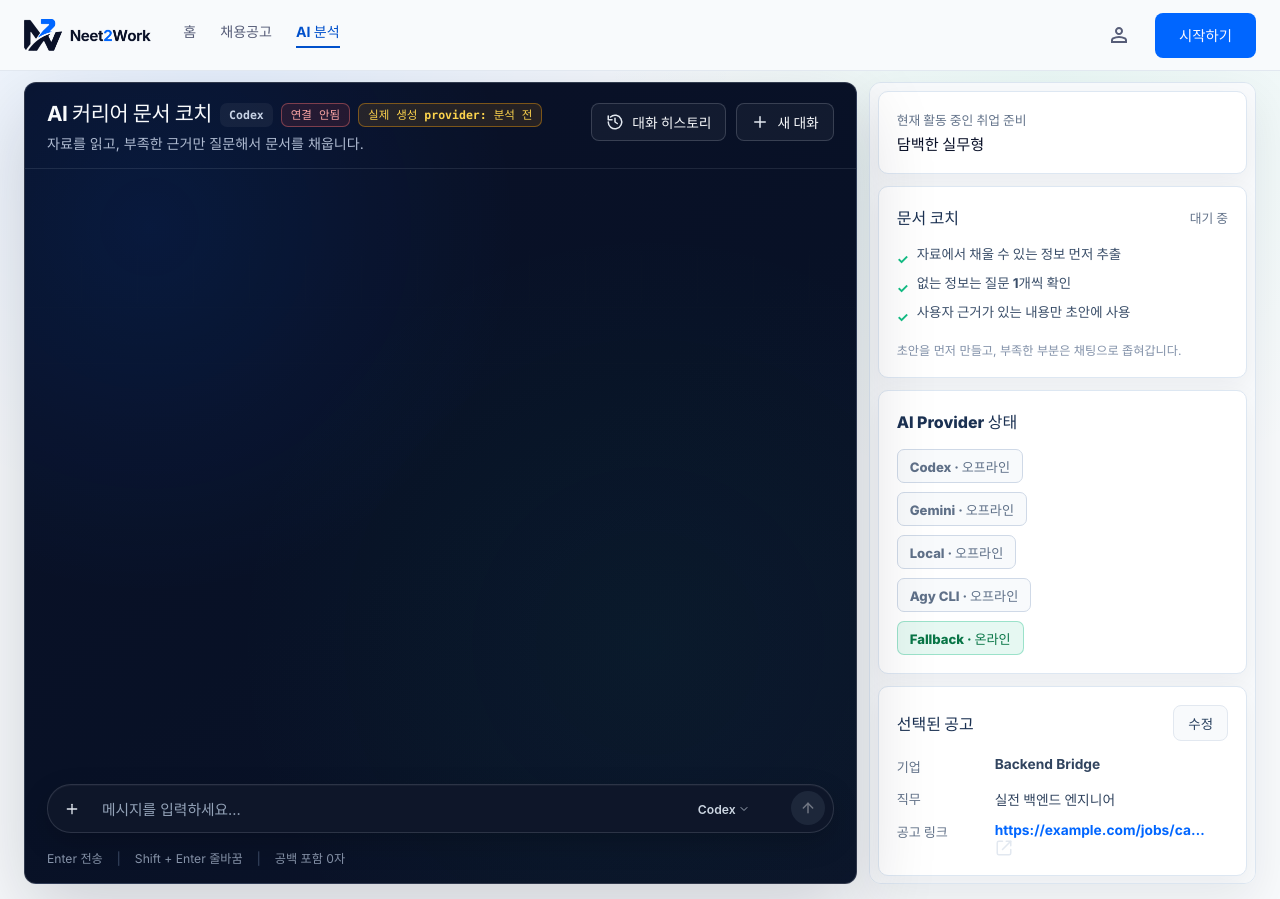
it: AIDraftChatBuilder draft workflow flow › saves GitHub-derived skill suggestions back to the selected empty profile
Expected: the text "Backend Bridge" is shown, [995,758,1100,774]
Click the button named "작성 옵션" at (72, 809), box [56,793,88,825]
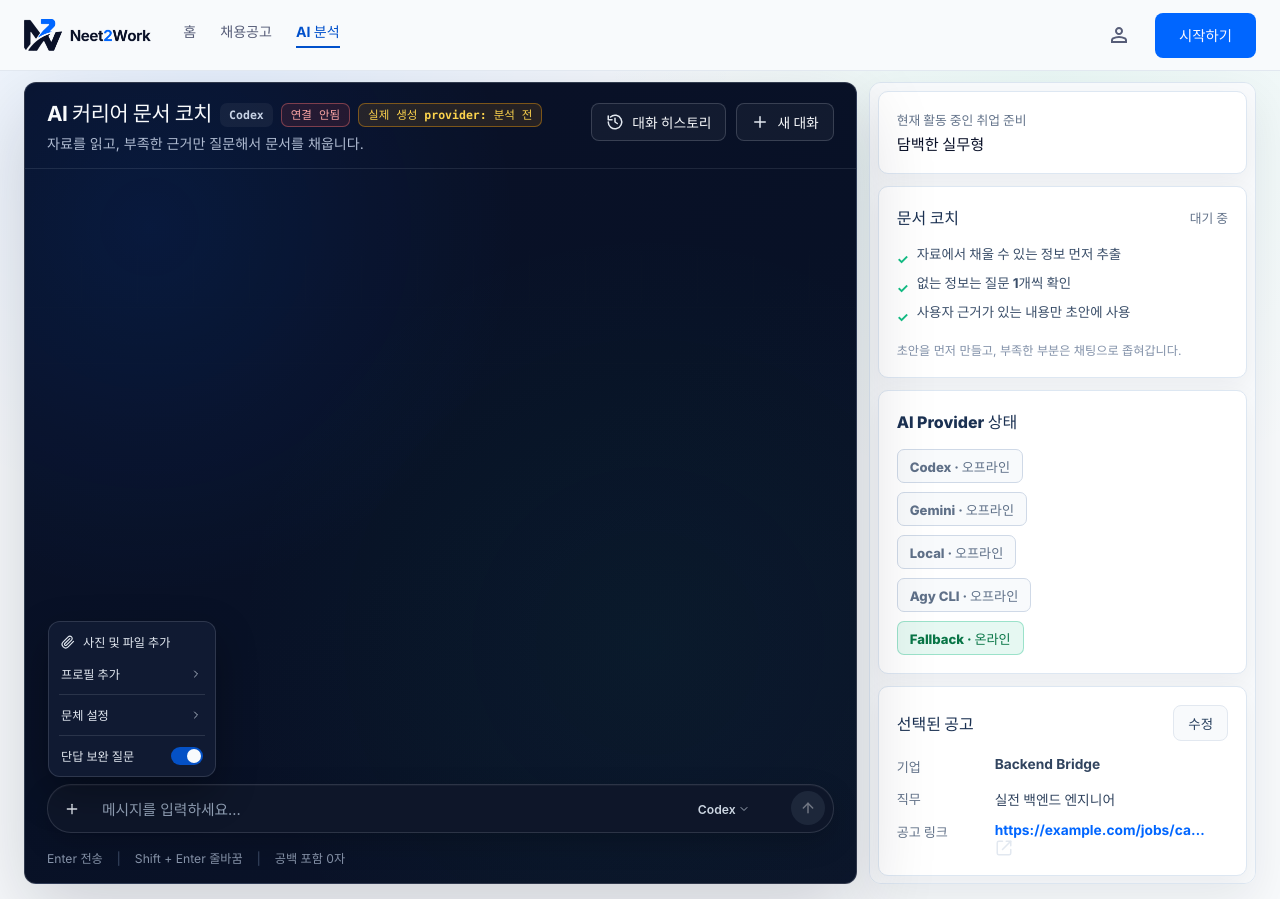
Click the button "프로필 추가" at (132, 674), box [53,658,211,690]
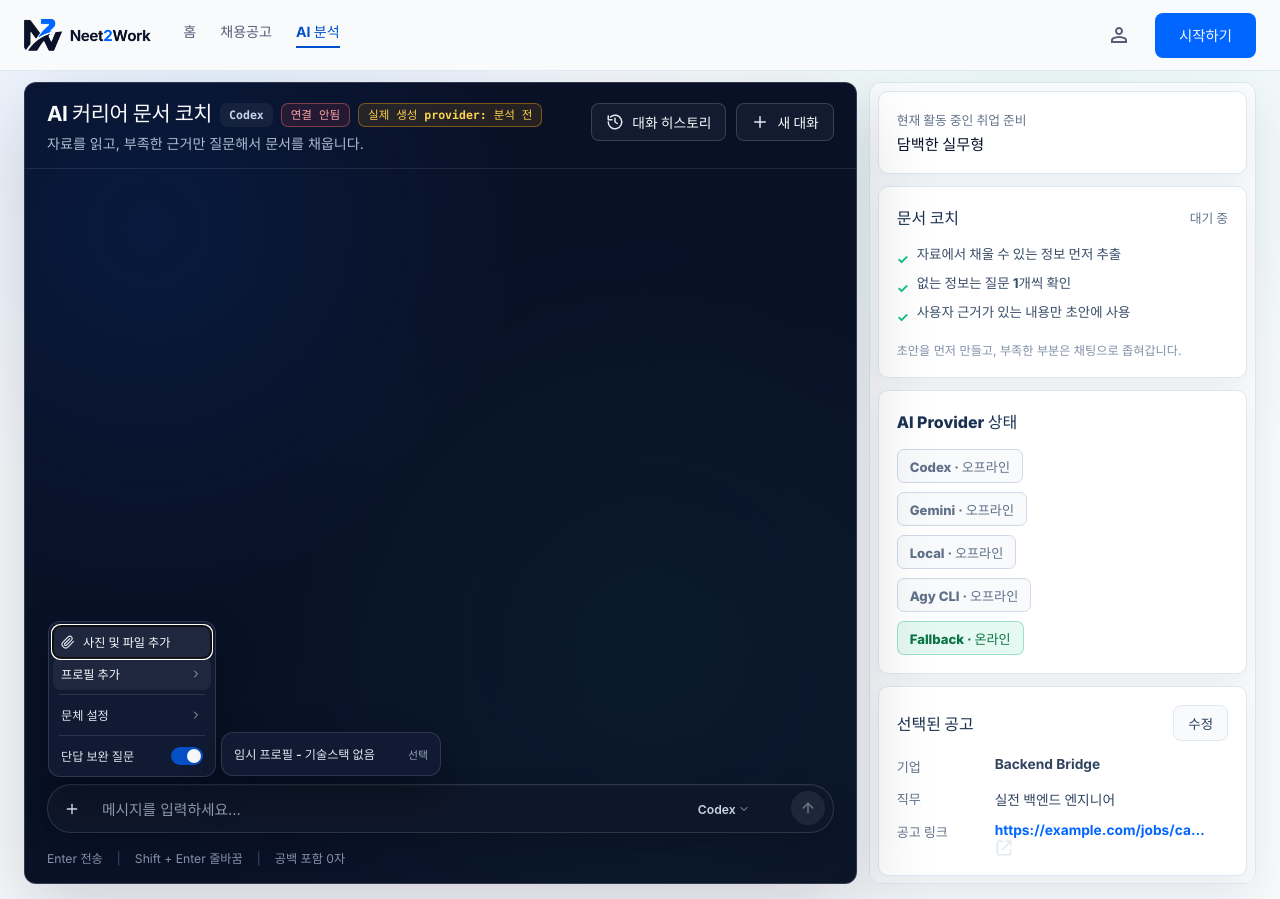
Click the option "임시 프로필 - 기술스택 없음 선택" at (331, 754), box [226,737,436,771]
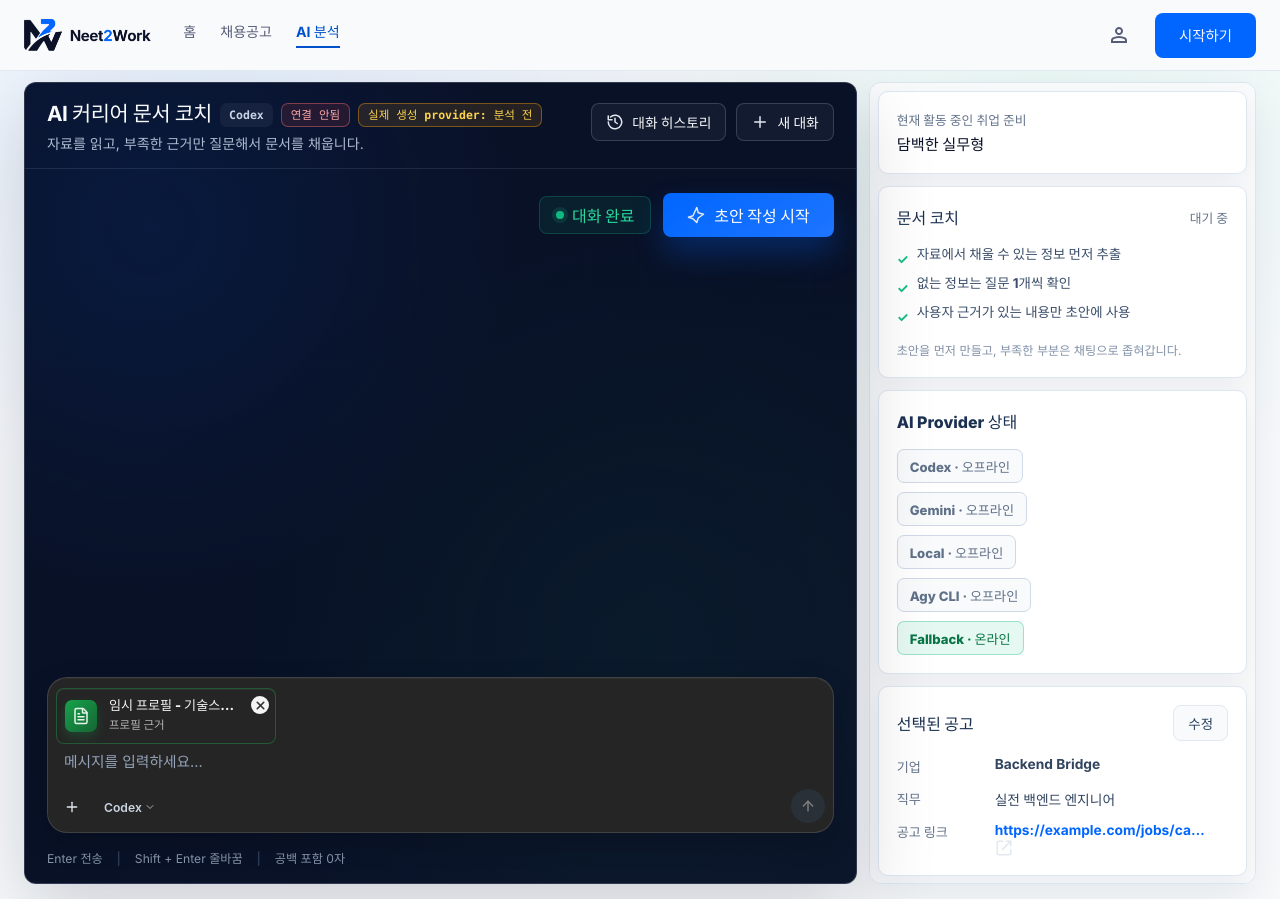
Type "https://github.com/r2gul4r 기준으로 자기소개서 초안 작성해줘." into the text box with placeholder "메시지를 입력하세요..." at (440, 767), box [56,751,825,783]
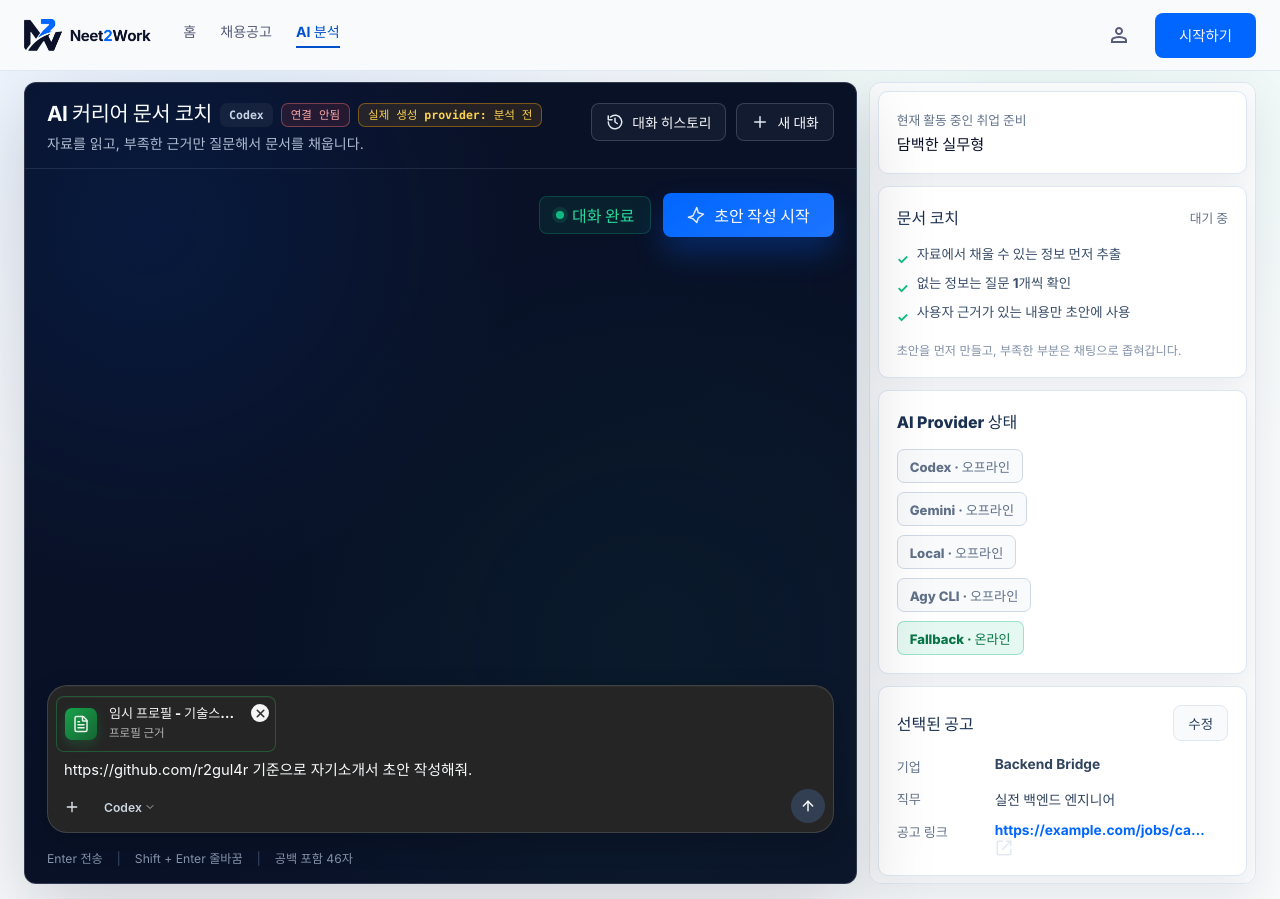
Press Enter in the text box with placeholder "메시지를 입력하세요...", box [56,759,825,783]
(page scrolled)
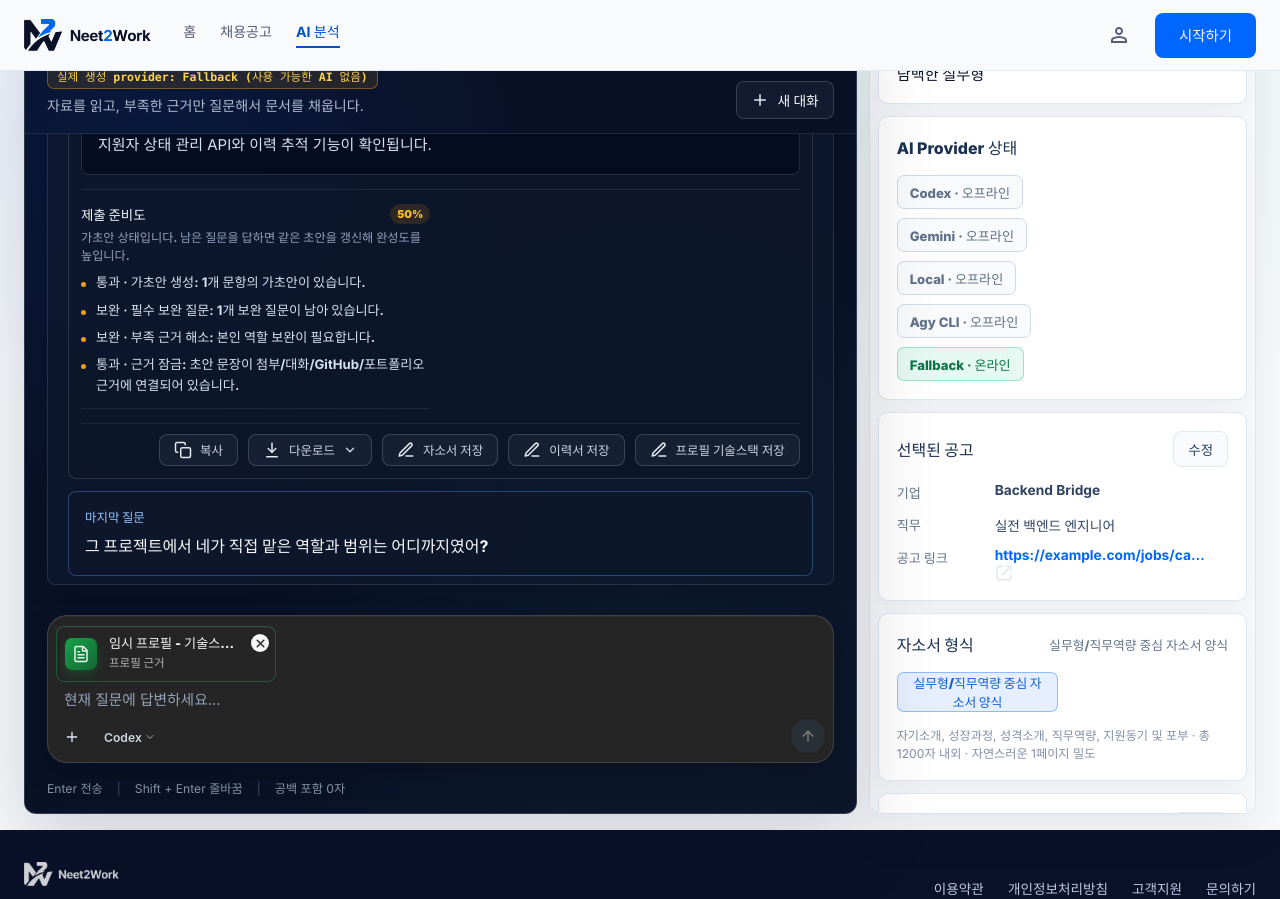
Expected: the text box with placeholder "메시지를 입력하세요..." is empty, [56,689,825,713]
Click the button with aria-label "임시 프로필 - 기술스택 없음 기술스택 프로필에 저장" at (717, 450), box [634,434,800,466]
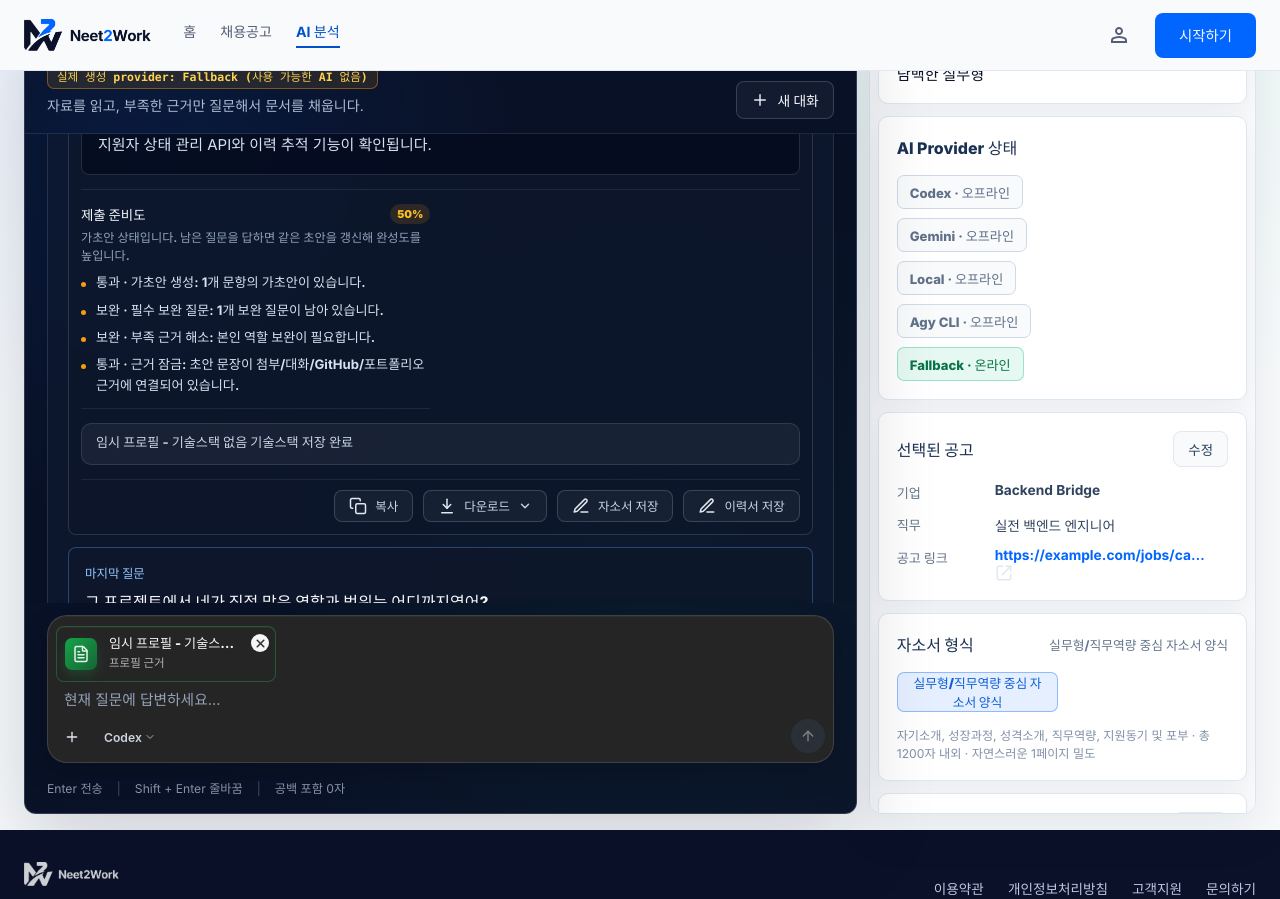
Expected: the text "임시 프로필 - 기술스택 없음 기술스택 저장 완료" is shown, [81,423,800,465]
